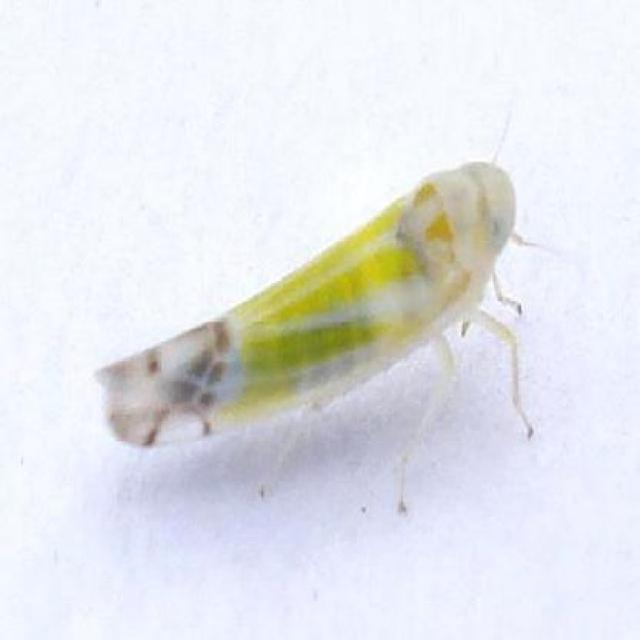green-leafhopper: (97, 163, 535, 515)
